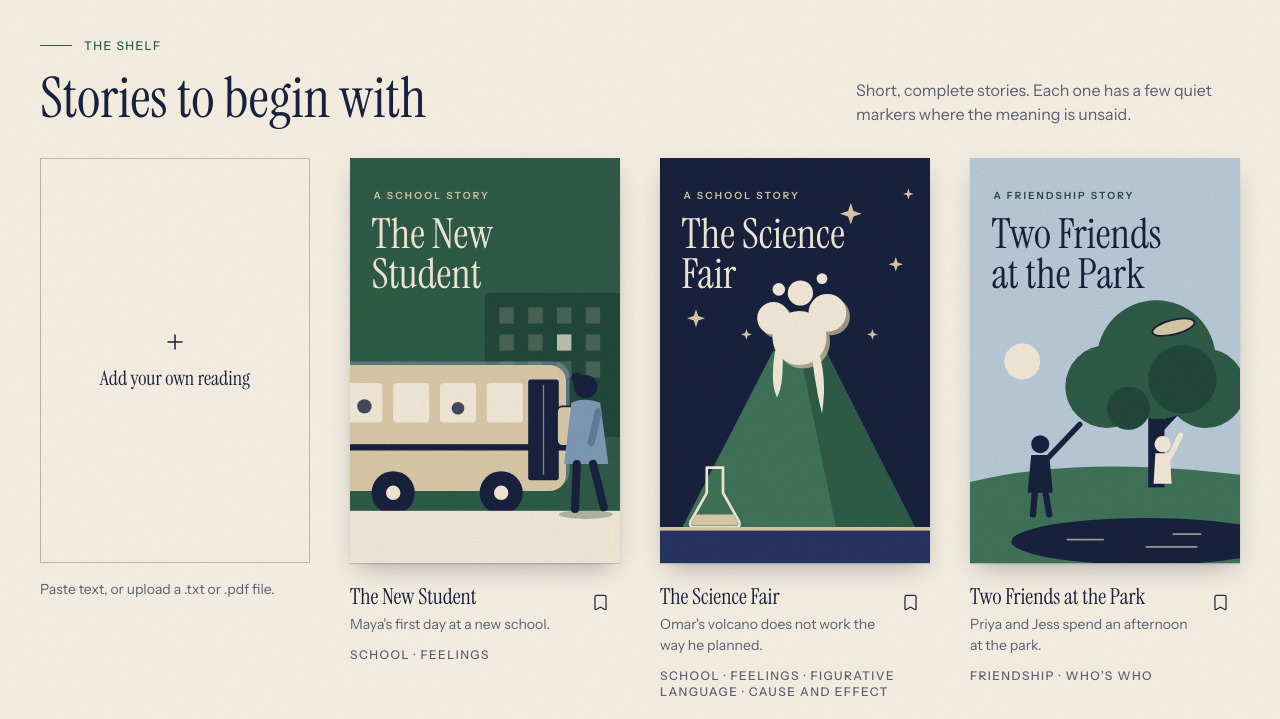
it: bring your own reading › opens on its own page from the shelf, with the Library tab still marked
The width and height of the screenshot is (1280, 719).
(page scrolled)
Click the link "Add your own reading" at (175, 378), box [40,158,310,563]
(page scrolled)
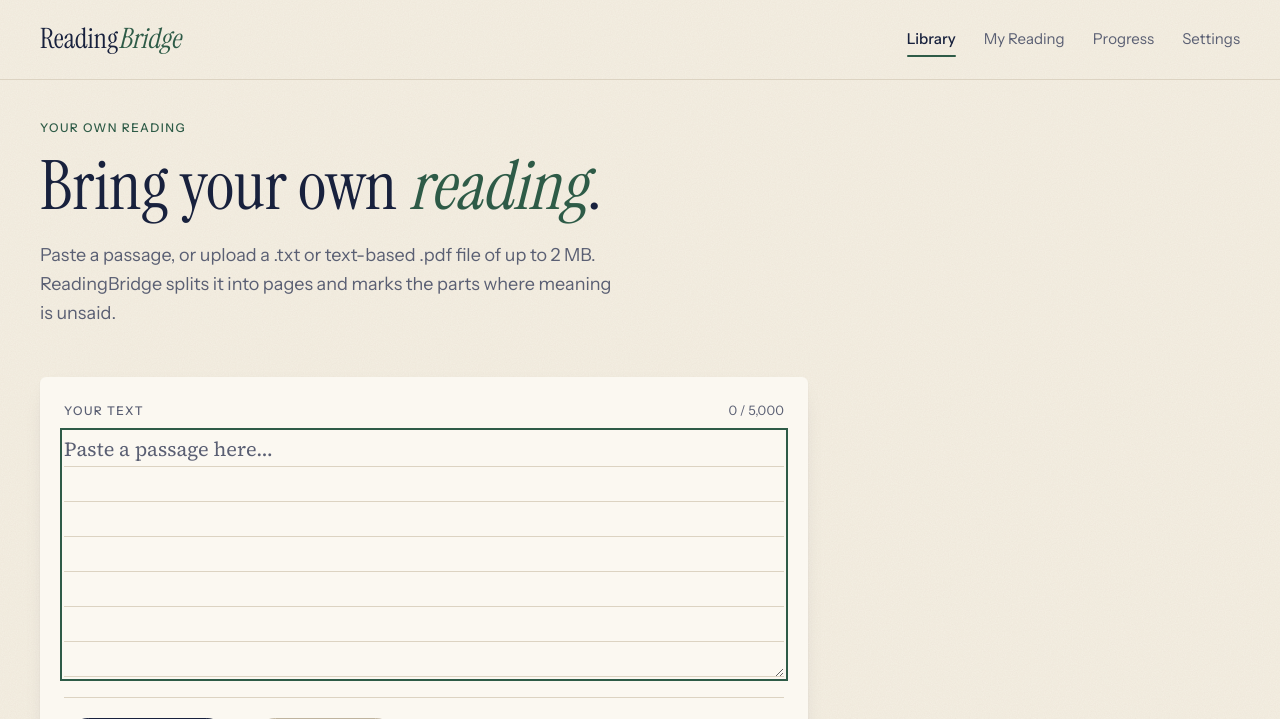
expect the heading "Bring your own reading." is shown: met, box [40,142,602,230]
expect the heading "Stories to begin with" is gone: met
